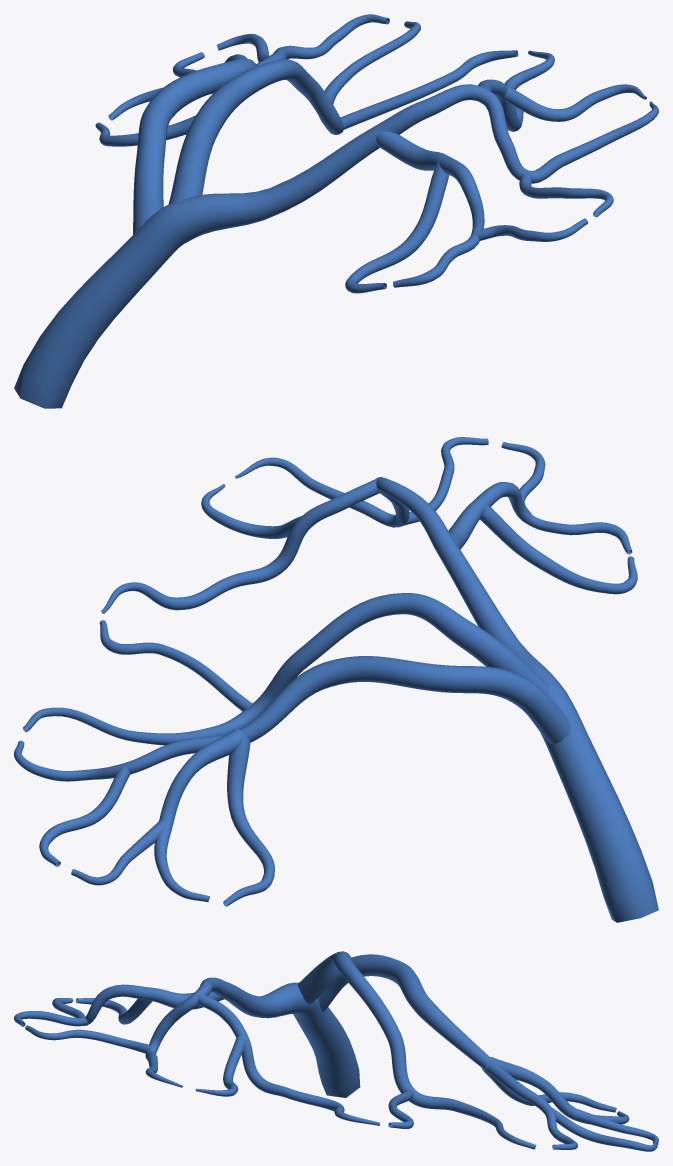
The picture shows the model from 3 angles, top to bottom: view 1: azimuth 30°, elevation 25°; view 2: azimuth 150°, elevation 25°; view 3: azimuth 270°, elevation 25°; orthographic projection. The views are drawn at different scales.
Parts seen in each view (by area): view 1: 左肾内静脉; view 2: 左肾内静脉; view 3: 左肾内静脉.
Boxes of the visible parts, x1,y1,x2,y2 form: 左肾内静脉: (14, 14, 658, 408); 左肾内静脉: (14, 437, 658, 922); 左肾内静脉: (14, 951, 658, 1151).
Bounding box in the file's own units: 0.0853 × 0.0454 × 0.1139.
